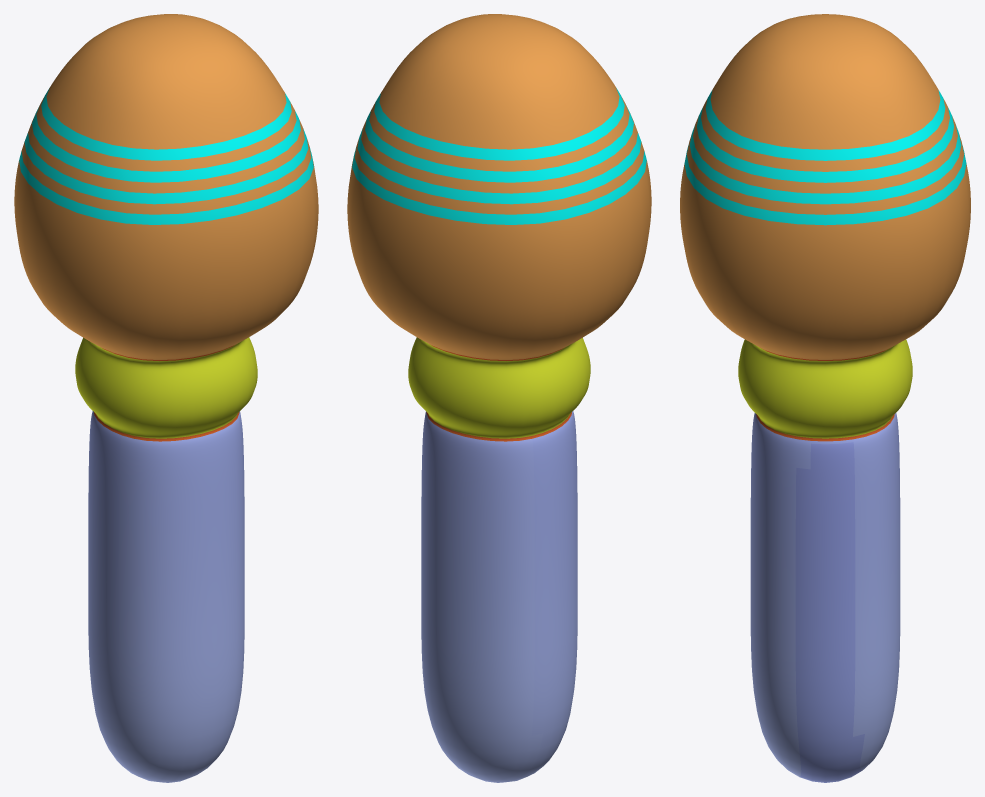
File: Maraca.fbx
3 renders of one model, left to right at view 1: azimuth 30°, elevation 25°; view 2: azimuth 150°, elevation 25°; view 3: azimuth 270°, elevation 25°, orthographic.
Visible parts, largest first — view 1: Cube; view 2: Cube; view 3: Cube.
Boxes of the visible parts, x1,y1,x2,y2 form: Cube: (14, 14, 318, 782); Cube: (347, 14, 651, 782); Cube: (680, 14, 970, 782).
Size of the model in its own units: 6.33 by 17.42 by 6.13.
